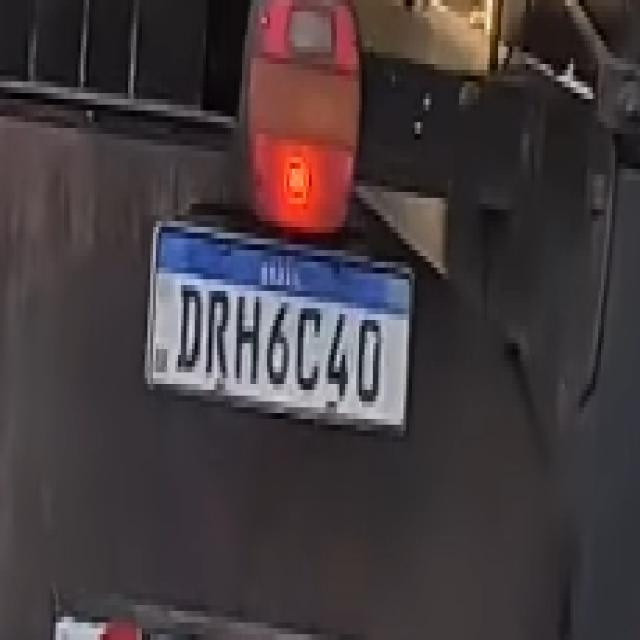Placa_mercosul_carro: (145, 216, 415, 427)
